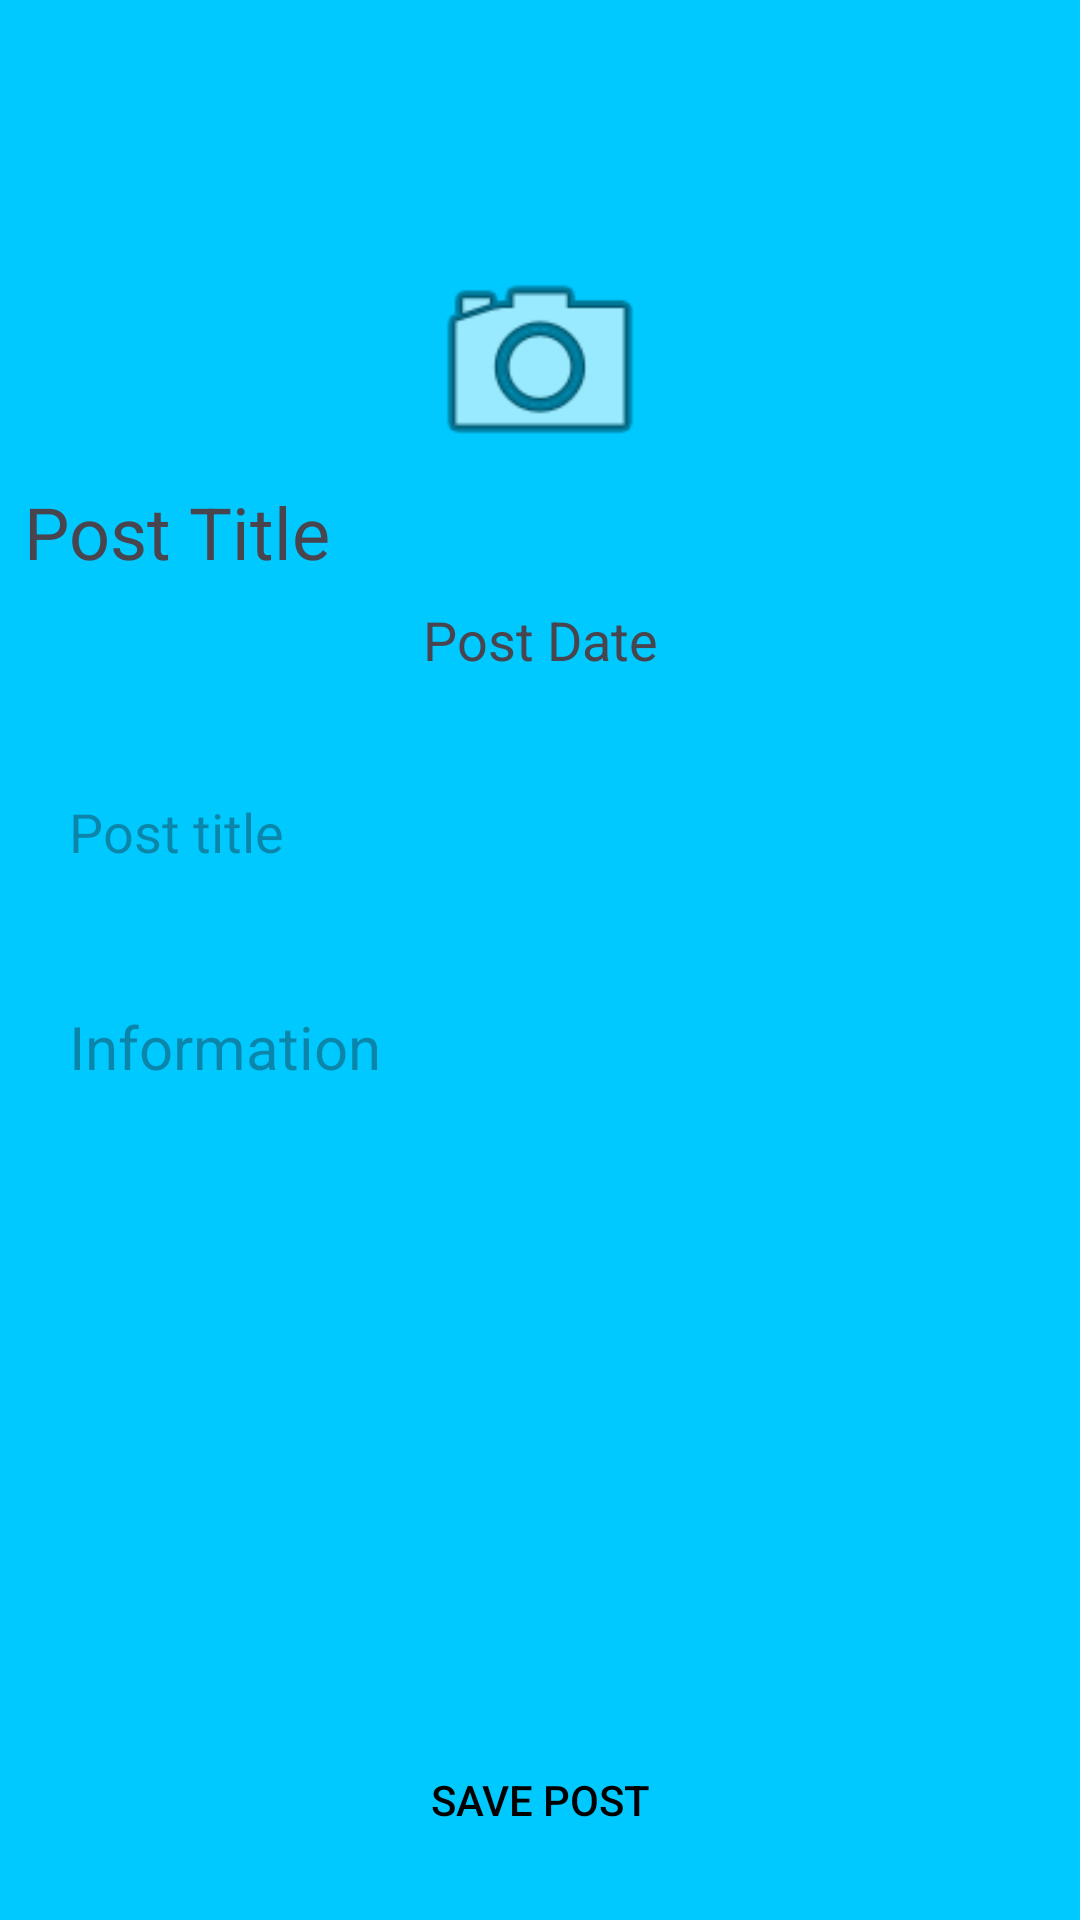

Named icons in this screenshot (1080*1920) and their bounding boxes, (x1, y1, x2, y2):
camera: (447, 285, 633, 433)
